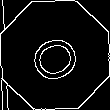O_NE: (23, 25, 87, 85)
